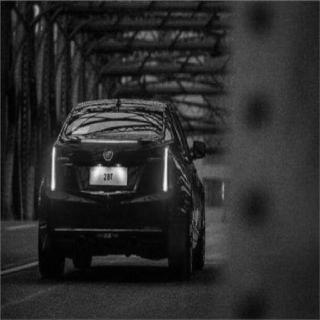other: (44, 137, 64, 195)
